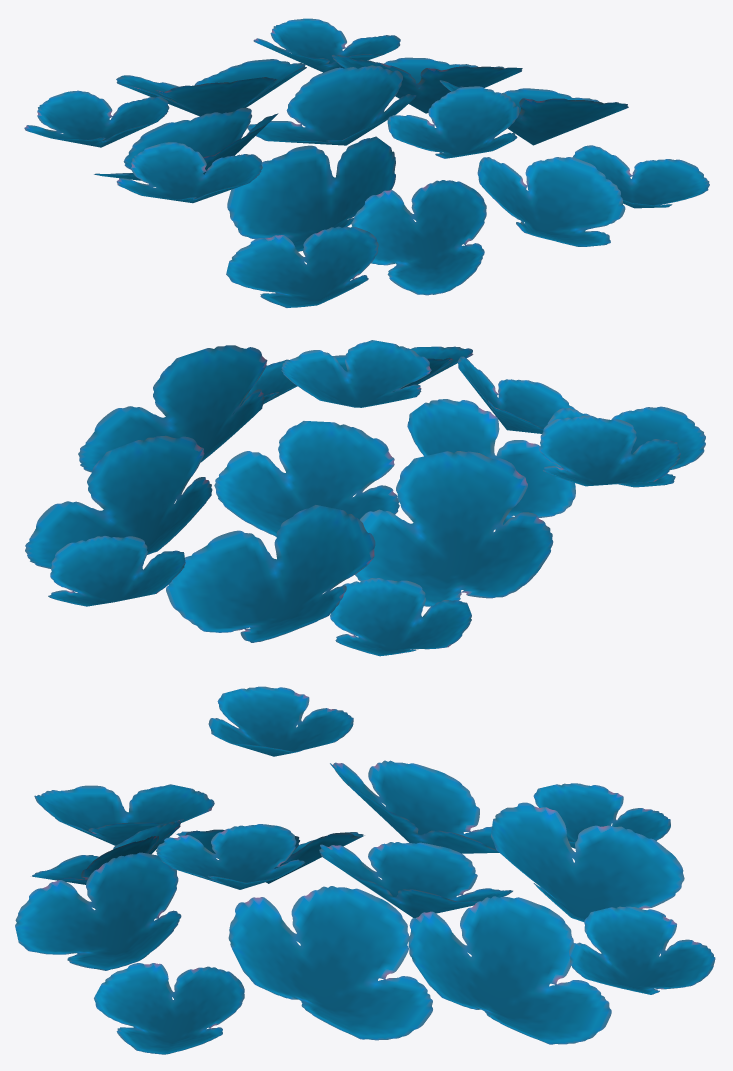
File: plant7.glb
3 views of the same model, one above another, from view 1: azimuth 30°, elevation 25°; view 2: azimuth 150°, elevation 25°; view 3: azimuth 270°, elevation 25° (orthographic). The views are drawn at different scales.
Visible parts, largest first — view 1: Plant_7_Big; view 2: Plant_7_Big; view 3: Plant_7_Big.
Part boxes in pixels (<box>): Plant_7_Big: <box>24,18,709,307</box>; Plant_7_Big: <box>25,340,705,656</box>; Plant_7_Big: <box>15,686,715,1054</box>.
Size of the model in its own units: 1.31 by 0.2534 by 1.36.
Materials: 1 (1 with a texture image).
